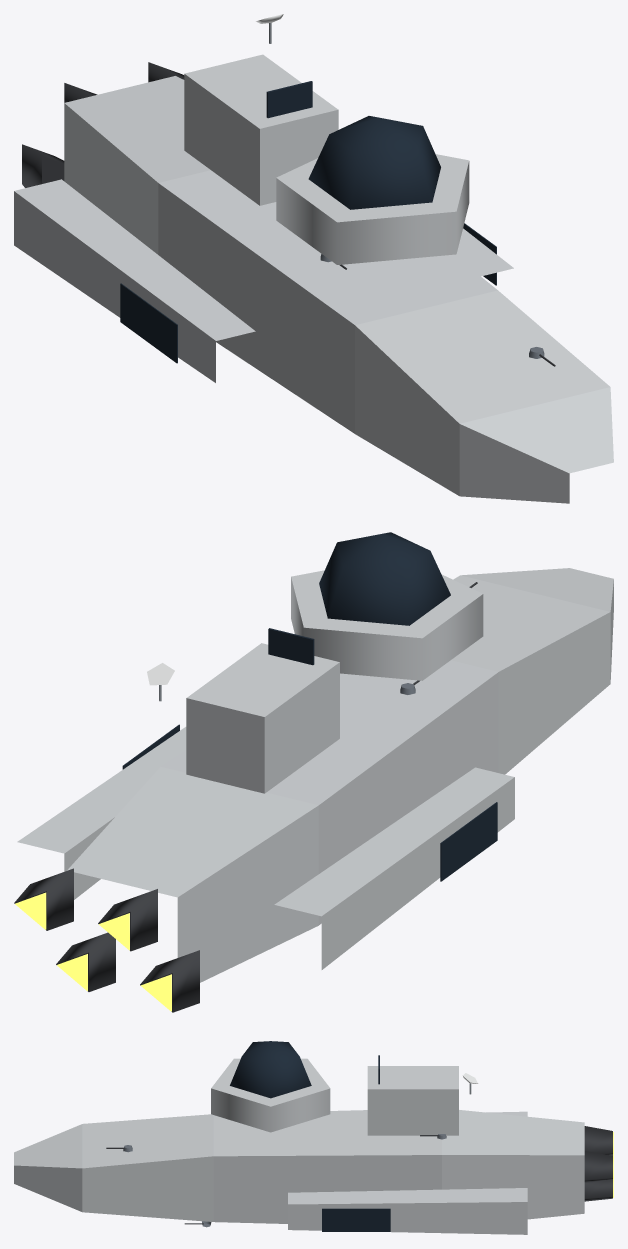
The model's file is space_ship_command_ship_mk1_lod2.glb.
The picture shows the model from 3 angles, top to bottom: view 1: azimuth 30°, elevation 25°; view 2: azimuth 150°, elevation 25°; view 3: azimuth 270°, elevation 25°; orthographic projection. The views are drawn at different scales.
Visible parts, largest first — view 1: body, hangar_r, engine_0; view 2: body, engine_0, engine_1, engine_3, engine_2, hangar_r; view 3: body, hangar_l, engine_3, engine_1, engine_2.
Part boxes in pixels (x1,y1,x2,y2): body: (14,54,613,503); hangar_r: (120,283,177,363); engine_0: (22,144,64,187); body: (17,532,613,982); engine_0: (140,950,199,1012); engine_1: (98,889,157,951); engine_3: (14,868,73,930); engine_2: (56,932,115,991); hangar_r: (440,802,497,881); body: (14,1041,584,1234); hangar_l: (322,1208,390,1231); engine_3: (584,1151,613,1182); engine_1: (584,1126,613,1155); engine_2: (584,1179,613,1201).
Size of the model in its own units: 31.34 by 26.73 by 84.12.
